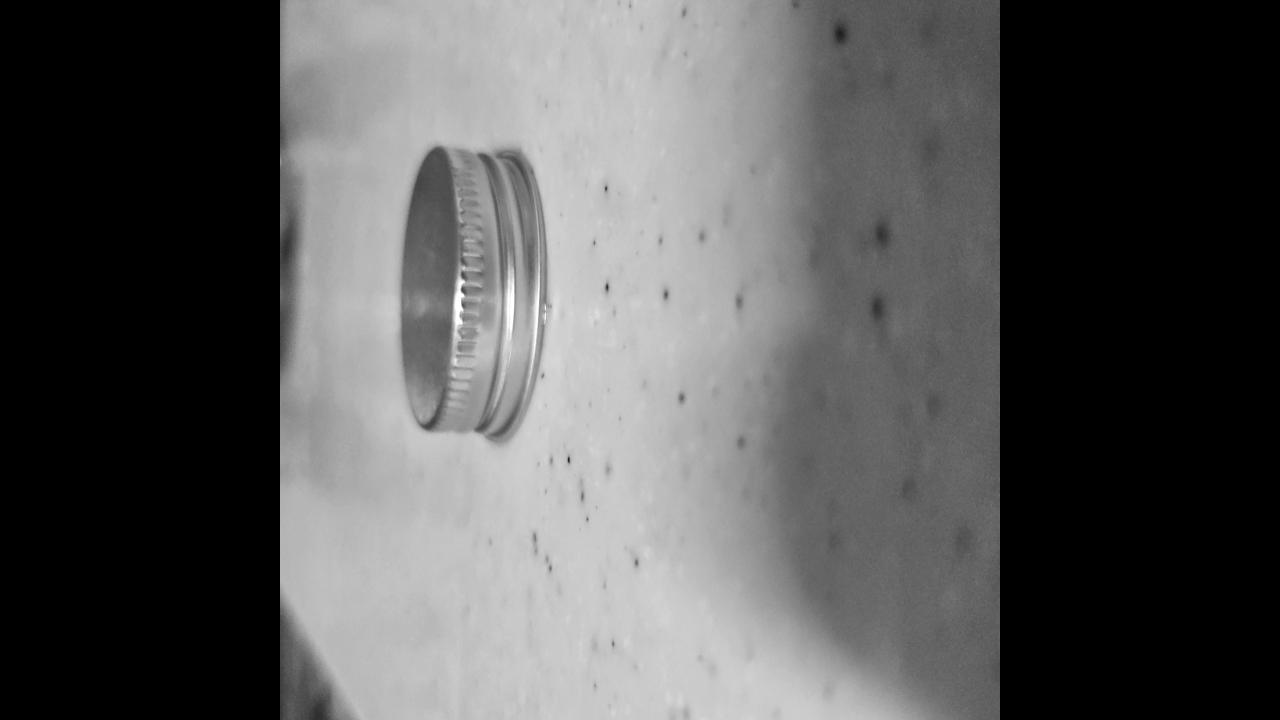bottle_cap: (403, 144, 548, 445)
